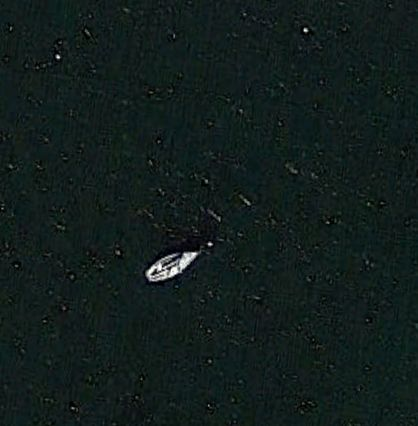boat: (145, 247, 206, 283)
